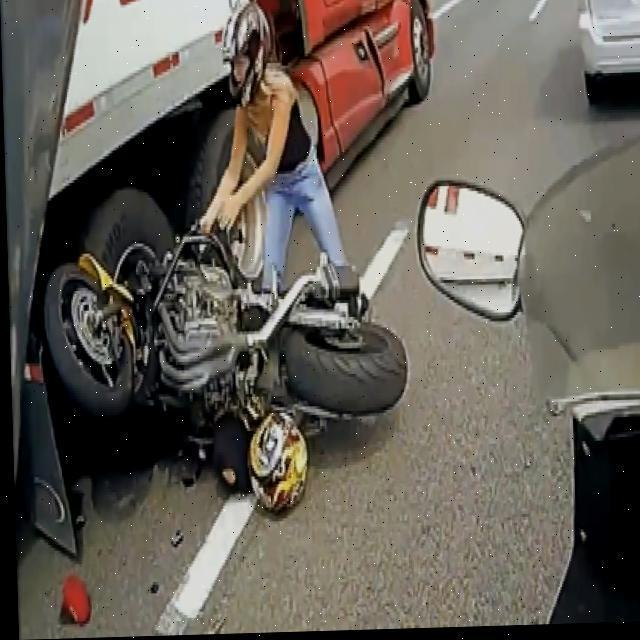Helmet: (216, 0, 275, 111)
